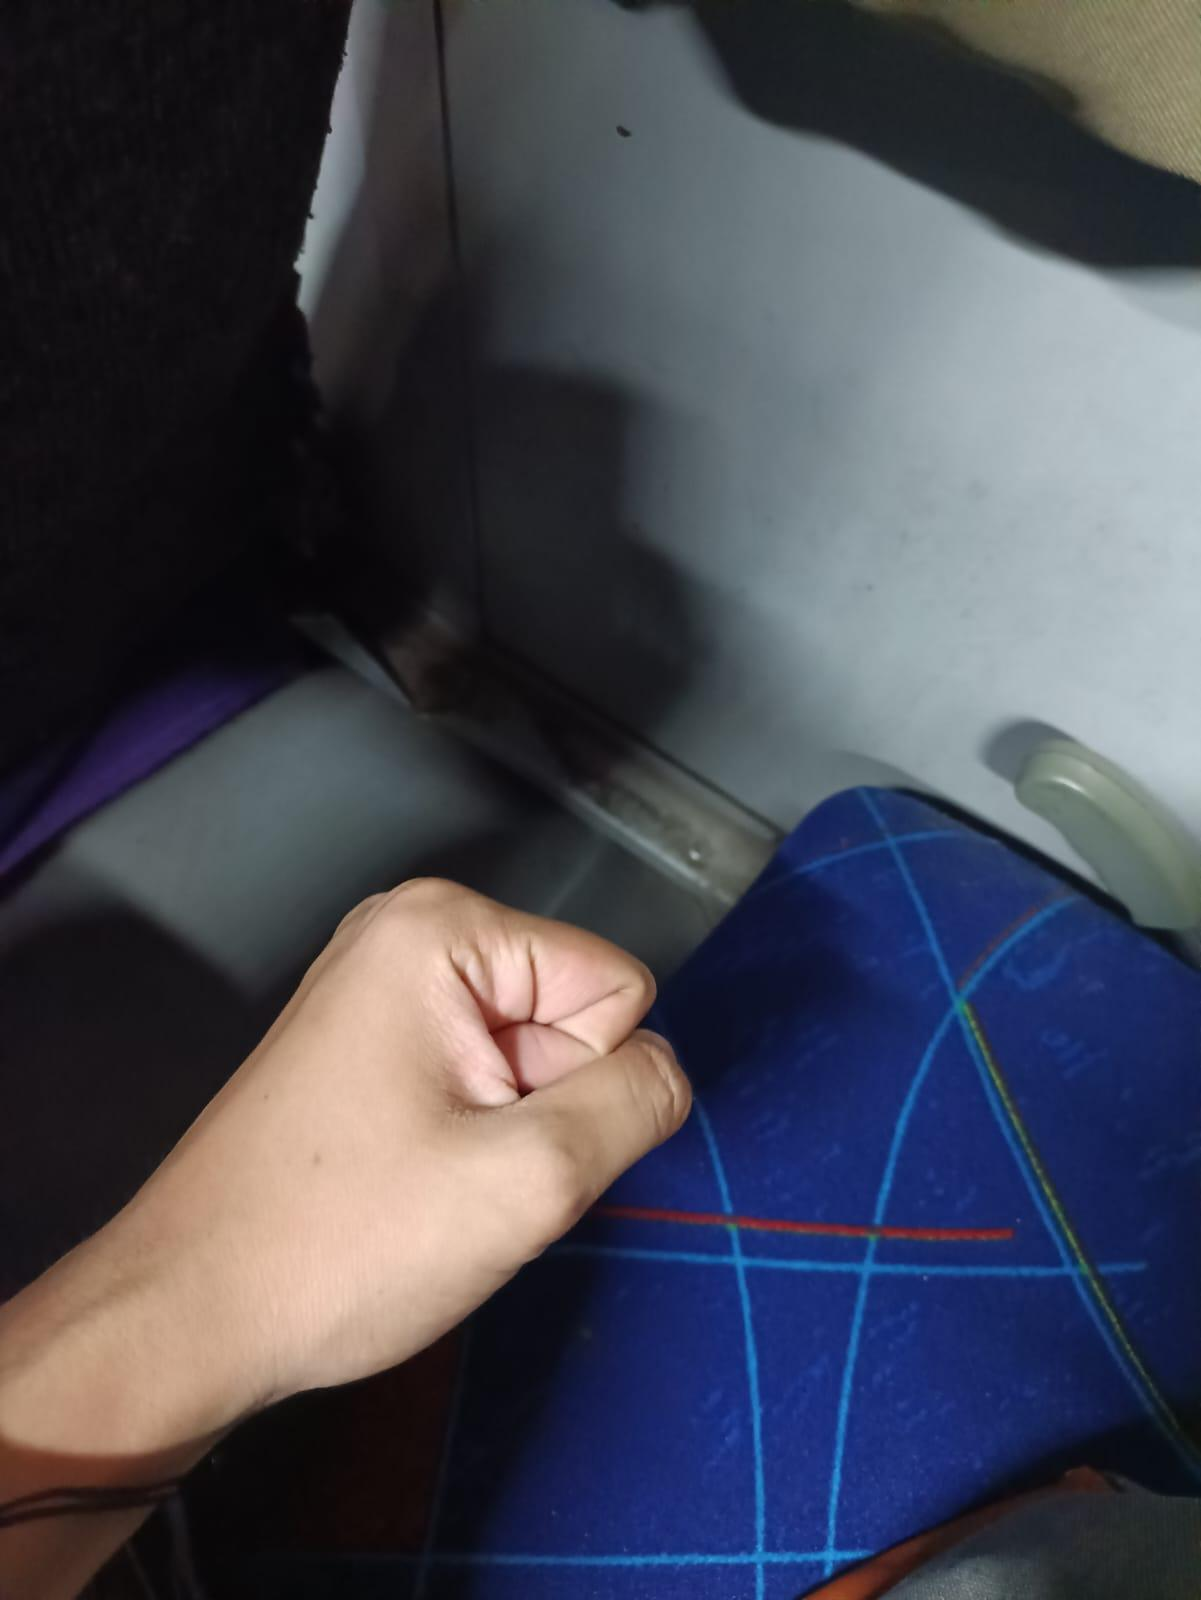Stone: (0, 790, 737, 1584)
